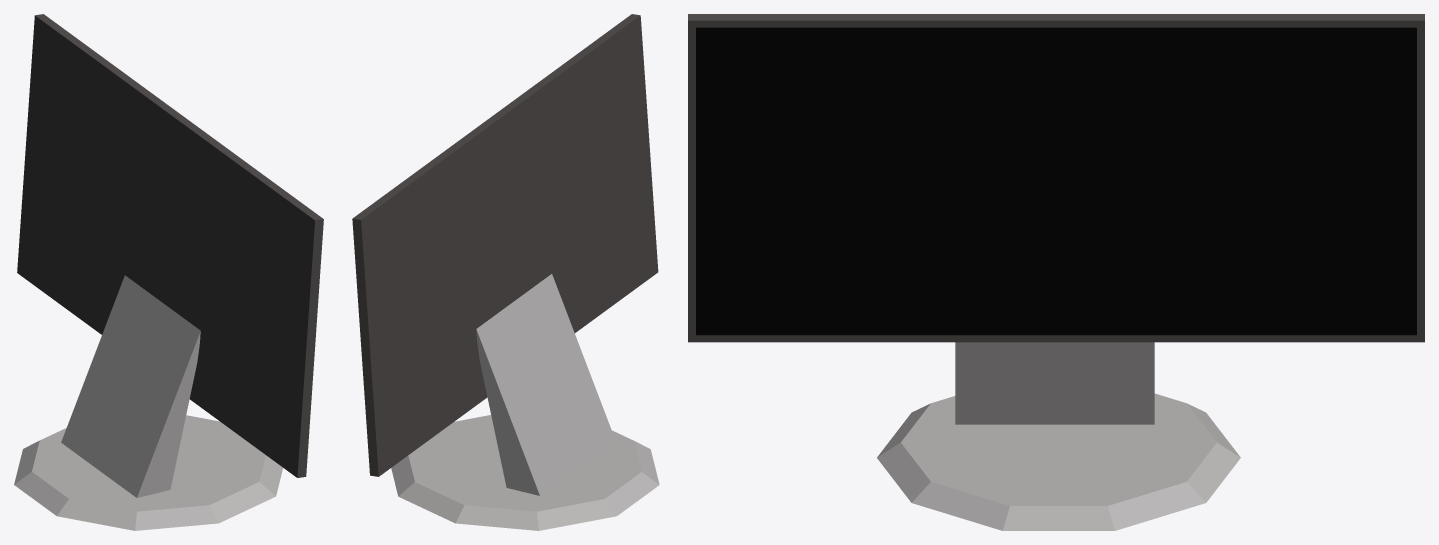
The model's file is monitor_2 1.fbx.
3 views of the same model, side by side, from view 1: azimuth 30°, elevation 25°; view 2: azimuth 150°, elevation 25°; view 3: azimuth 270°, elevation 25° (orthographic). The views are drawn at different scales.
Parts seen in each view (by area): view 1: Plane.002; view 2: Plane.002; view 3: Plane.002.
Part boxes in pixels (bbox=[...]): Plane.002: bbox=[14, 14, 323, 530]; Plane.002: bbox=[352, 14, 659, 530]; Plane.002: bbox=[688, 14, 1424, 530].
Bounding box in the file's own units: 61.09 × 89.43 × 130.
